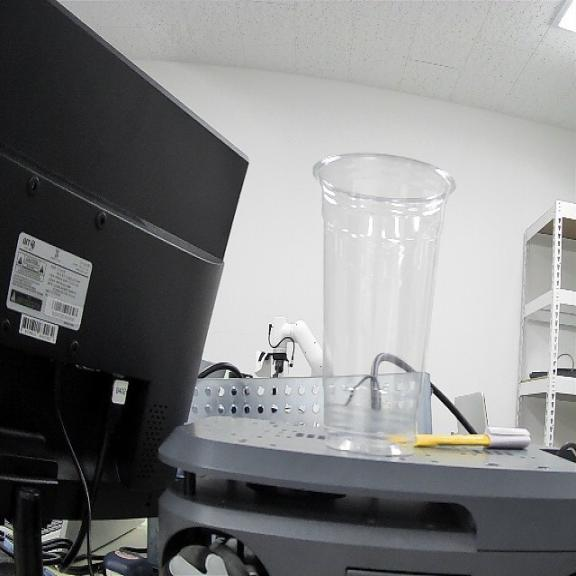Plastik: (314, 154, 454, 455)
